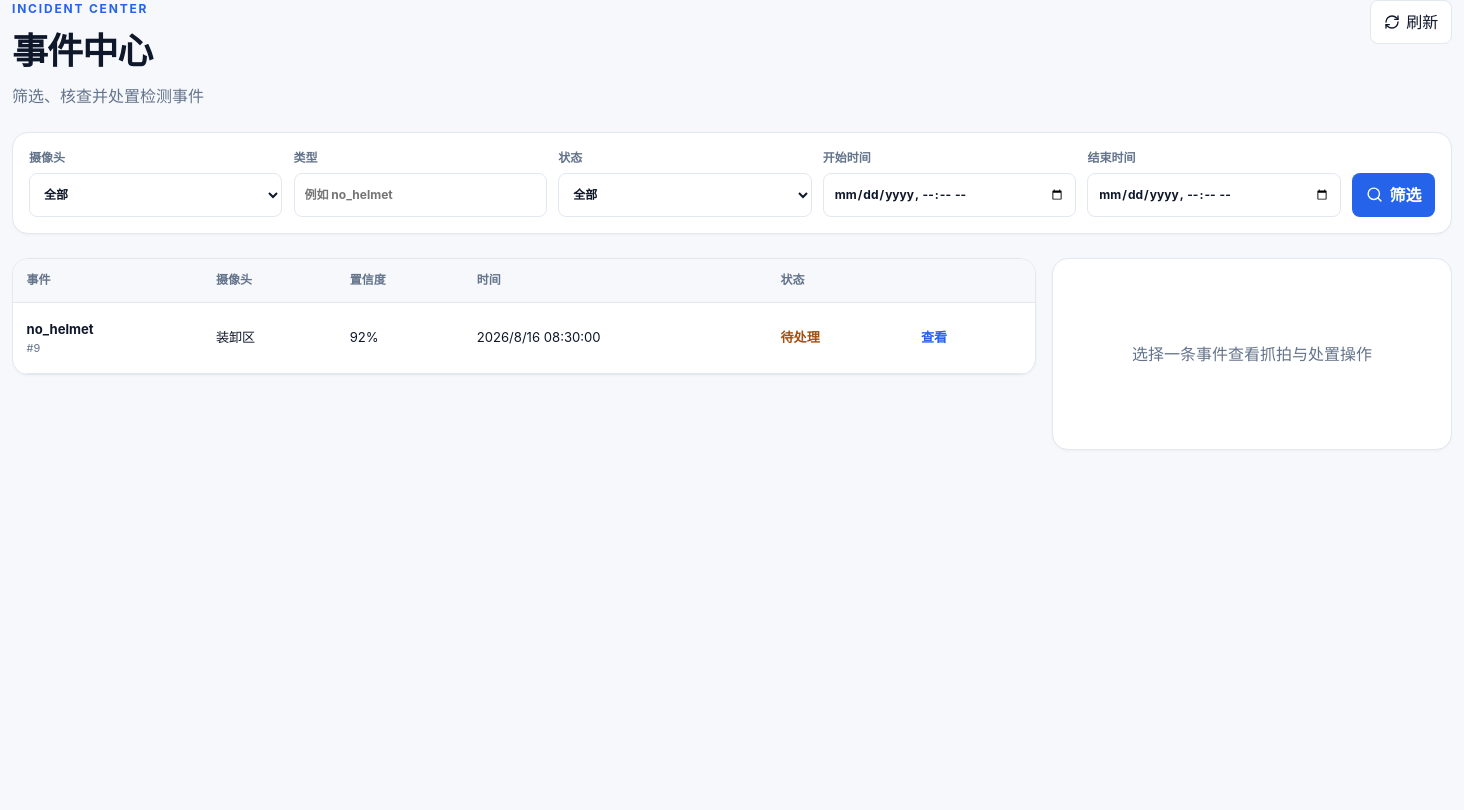
Test: filters events without rendering private paths and acknowledges an event
Expected: the heading "事件中心" is shown, [12,29,152,73]
Expected: the cell "装卸区" is shown, [202,303,336,373]
Step 1. Select "待处理" in the dropdown labelled "状态" → coordinates (685, 195), box [558,173,812,217]
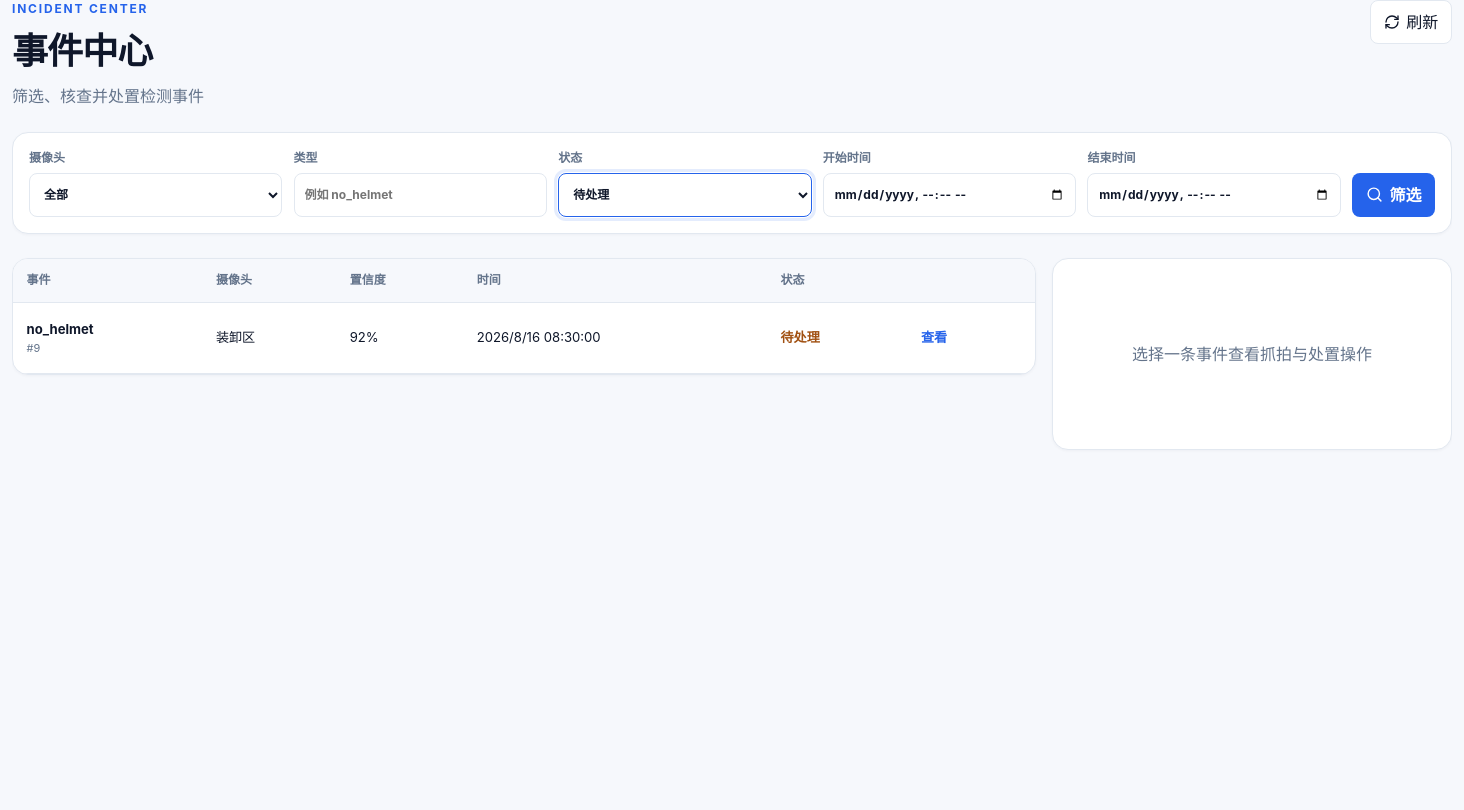
Step 2. Click the button "筛选" → coordinates (1394, 195), box [1352,173,1435,217]
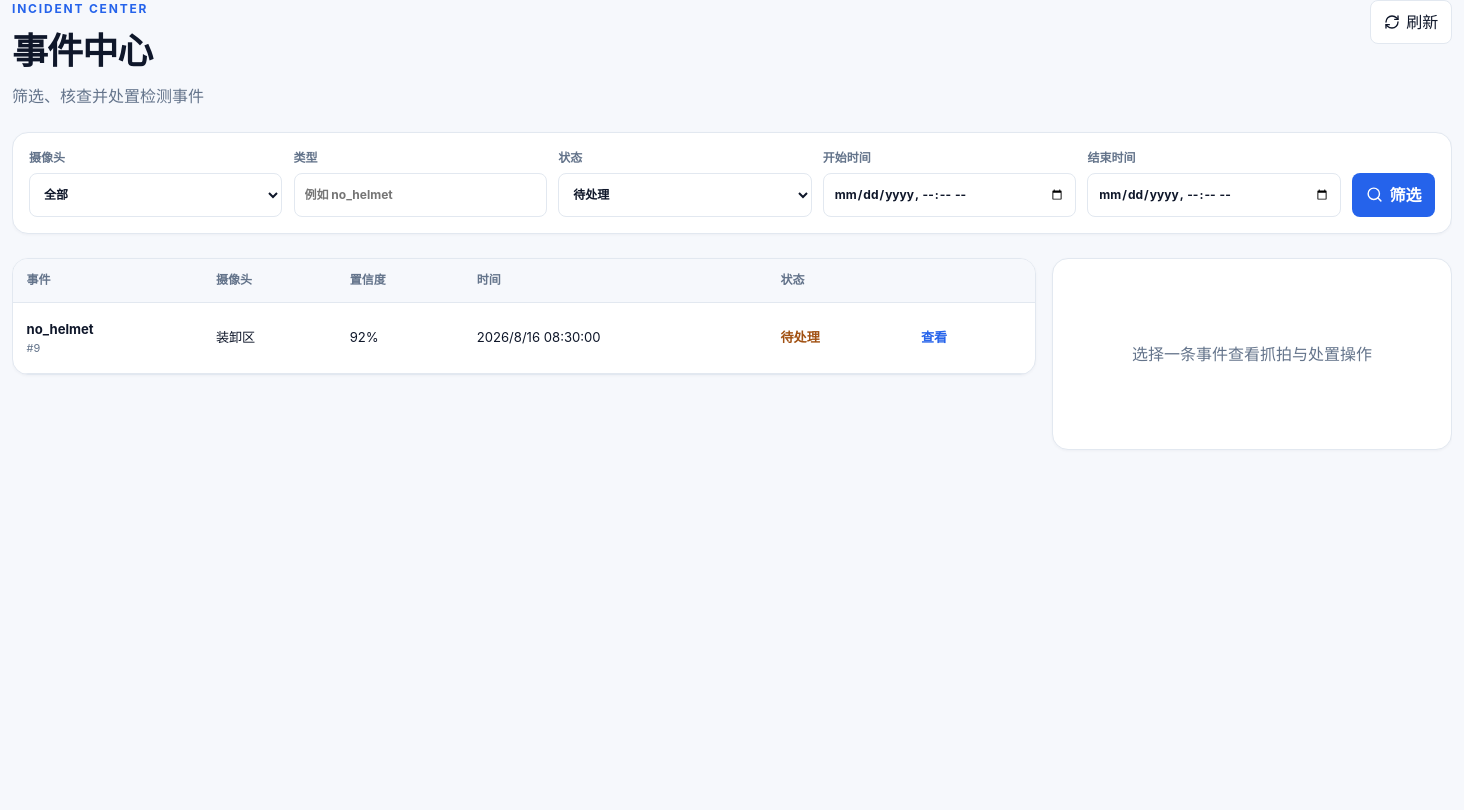
Step 3. Click the button with aria-label "查看事件 #9" → coordinates (934, 338), box [914,316,954,360]
(page scrolled)
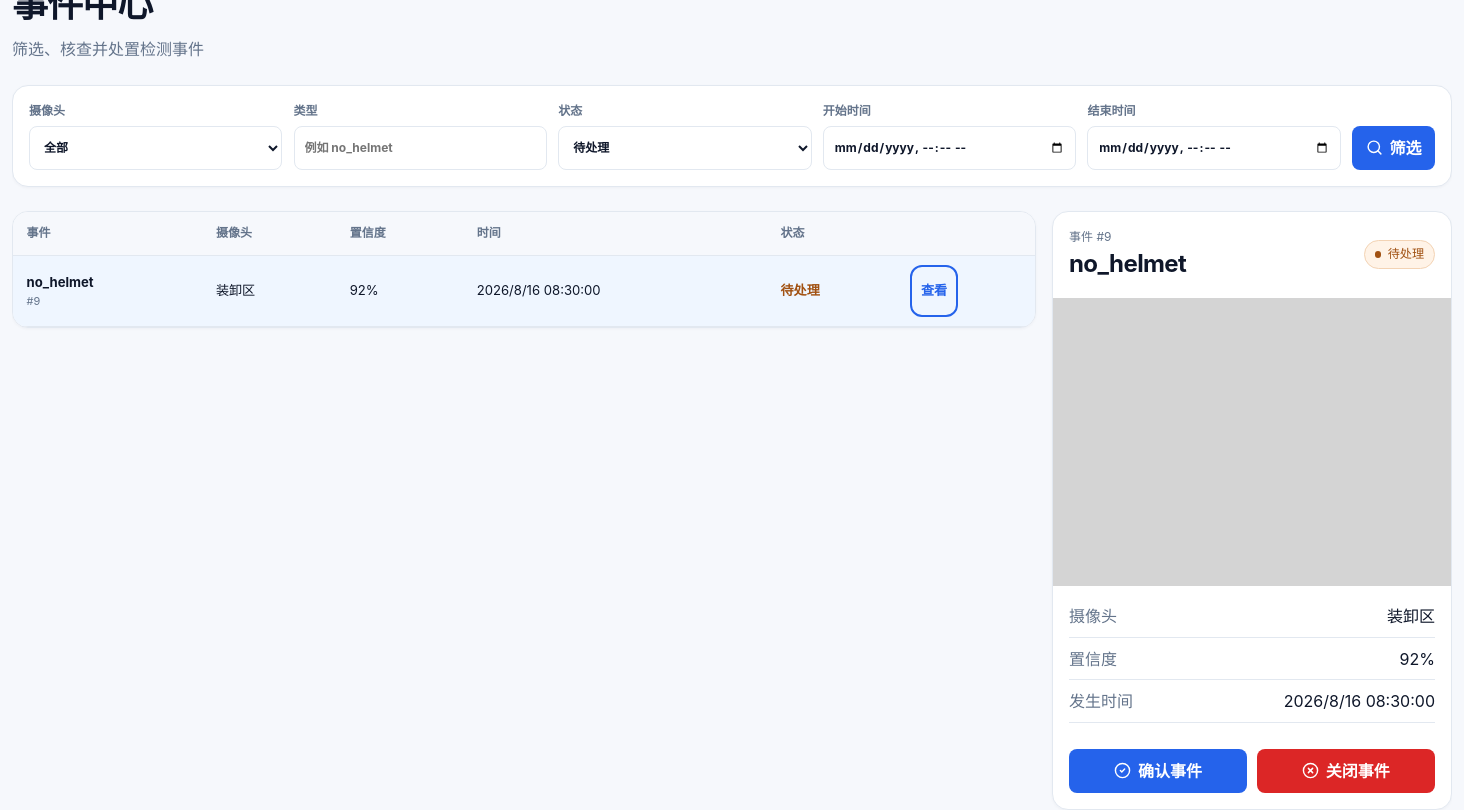
Step 4. Click the button "确认事件" → coordinates (1158, 770), box [1069,748,1247,792]
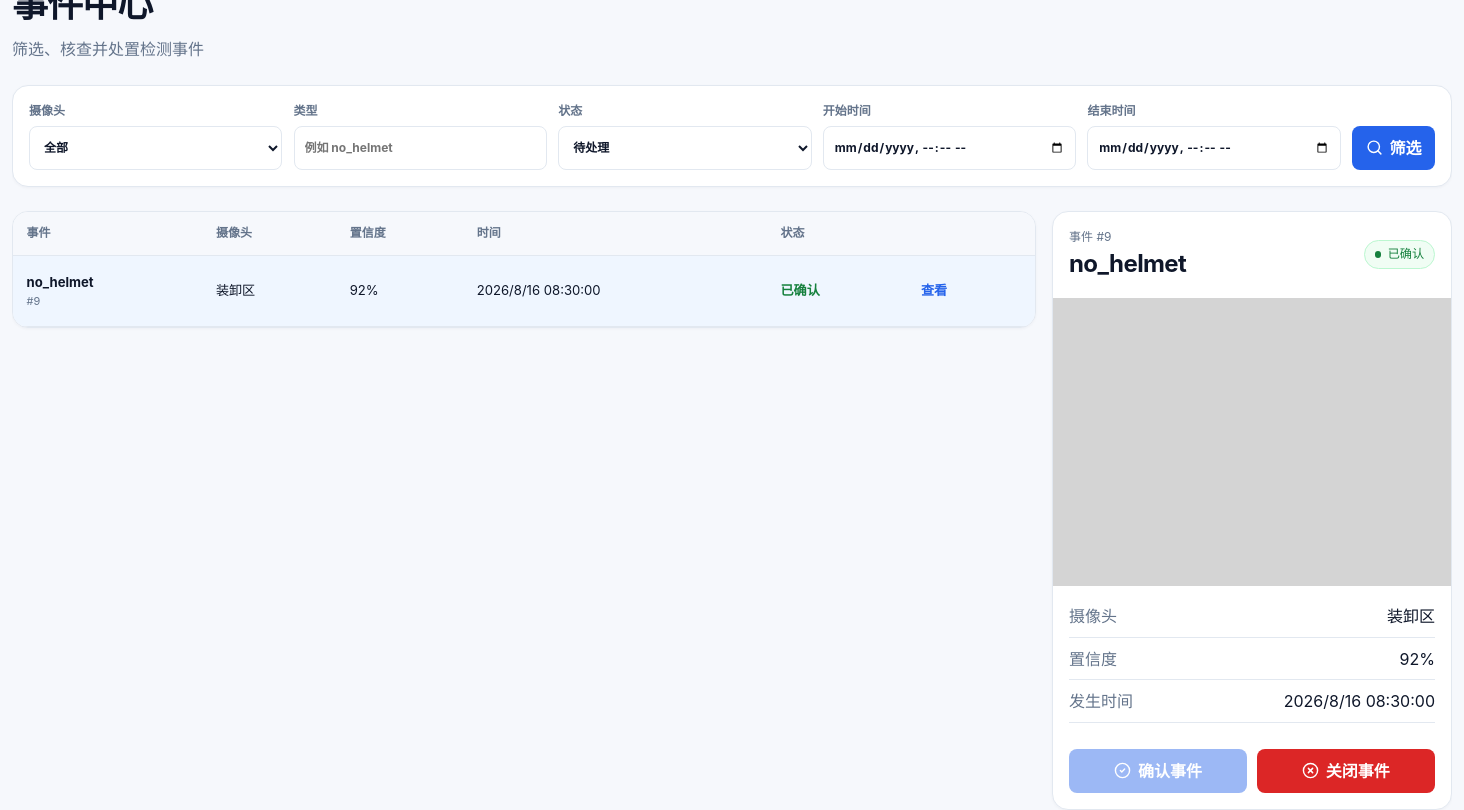
Result: the text "已确认" in the row of "事件 #" is shown at [1388,246,1424,262]
